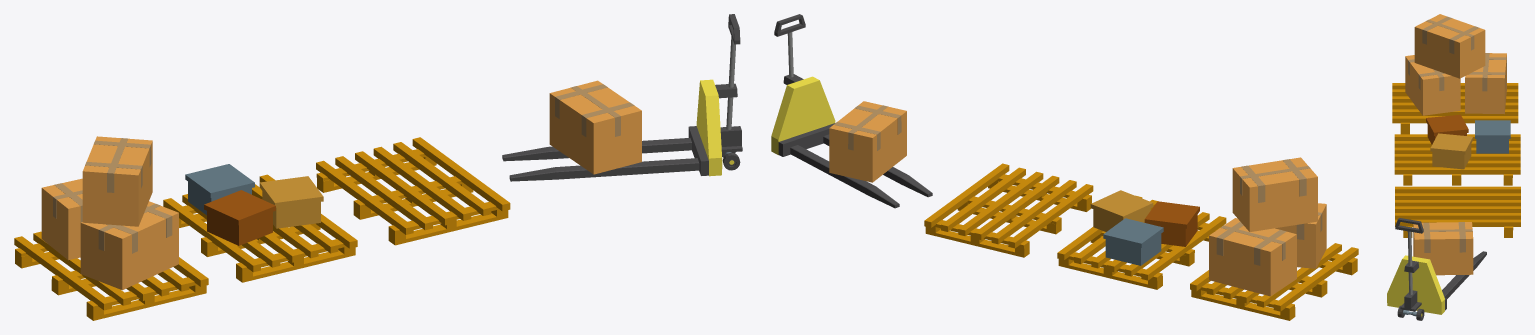
The model's file is assets.glb.
3 renders of one model, left to right at view 1: azimuth 30°, elevation 25°; view 2: azimuth 150°, elevation 25°; view 3: azimuth 270°, elevation 25°, orthographic. The views are drawn at different scales.
Parts seen in each view (by area): view 1: Shelf_10, Shelf.002_12, Shelf.001_11, Manual_ForkLift_4, BigBox_3; view 2: Shelf_10, Shelf.002_12, Shelf.001_11, Manual_ForkLift_4, BigBox_3; view 3: Shelf_10, Shelf.002_12, Shelf.001_11, Manual_ForkLift_4, BigBox_3.
Part boxes in pixels (x1,y1,x2,y2): Shelf_10: (14, 136, 208, 320); Shelf.002_12: (163, 164, 357, 282); Shelf.001_11: (316, 137, 510, 245); Manual_ForkLift_4: (502, 14, 742, 181); BigBox_3: (549, 80, 641, 174); Shelf_10: (1190, 157, 1358, 320); Shelf.002_12: (1057, 190, 1226, 289); Shelf.001_11: (924, 163, 1093, 257); Manual_ForkLift_4: (771, 14, 932, 208); BigBox_3: (829, 101, 906, 182); Shelf_10: (1392, 14, 1518, 134); Shelf.002_12: (1394, 114, 1520, 185); Shelf.001_11: (1395, 186, 1520, 237); Manual_ForkLift_4: (1387, 218, 1486, 320); BigBox_3: (1413, 222, 1473, 275).
Size of the model in its own units: 12.58 by 2.6 by 3.17.
1 material, 1 textured.
